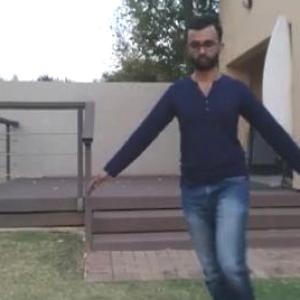land: (123, 30, 299, 299)
